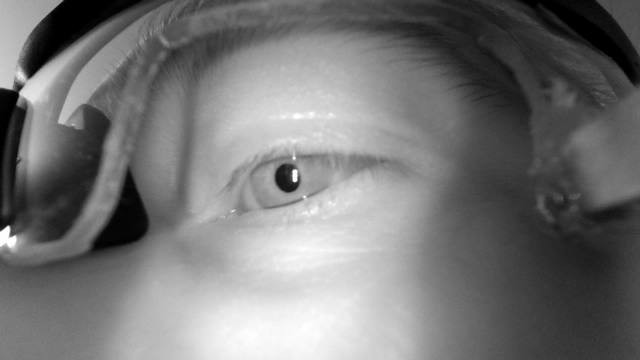pupil: (274, 162, 301, 193)
